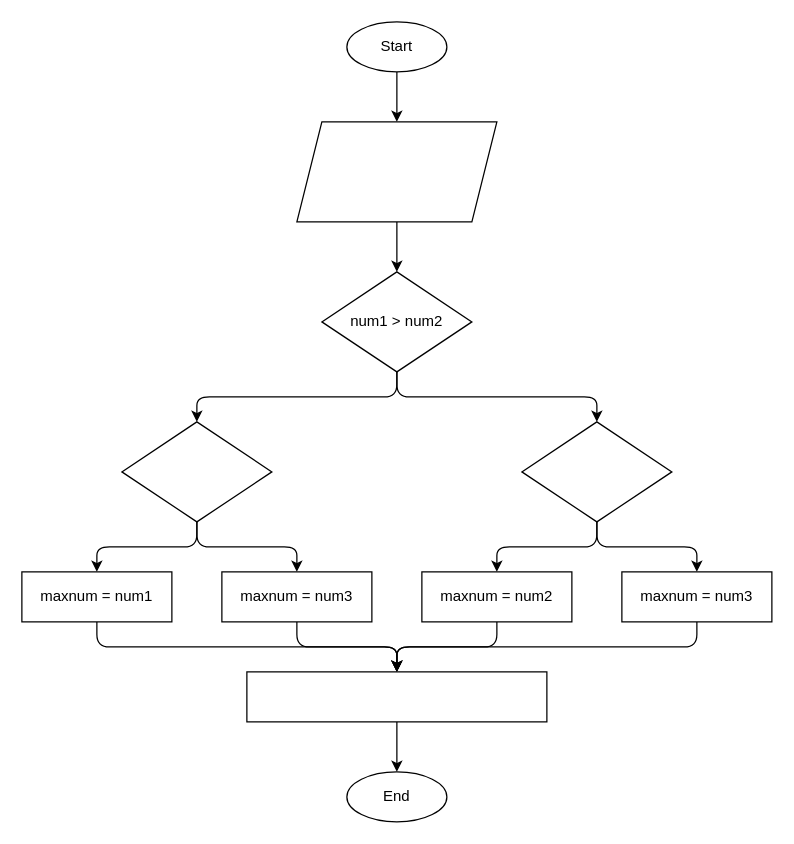
Some shapes in this 794 by 844 pixel diagram are drawn without their labels. The box of each missing label's shape, as (x1, y1, x2, y2) in pixels:
num1 = int(input()) num2 = int(input()) num3 = int(input()): (296, 121, 497, 222)
num1 > num3: (121, 421, 272, 522)
num2 > num3: (521, 421, 672, 522)
print (f'The greatest number is {maxnum}'): (246, 671, 547, 722)
